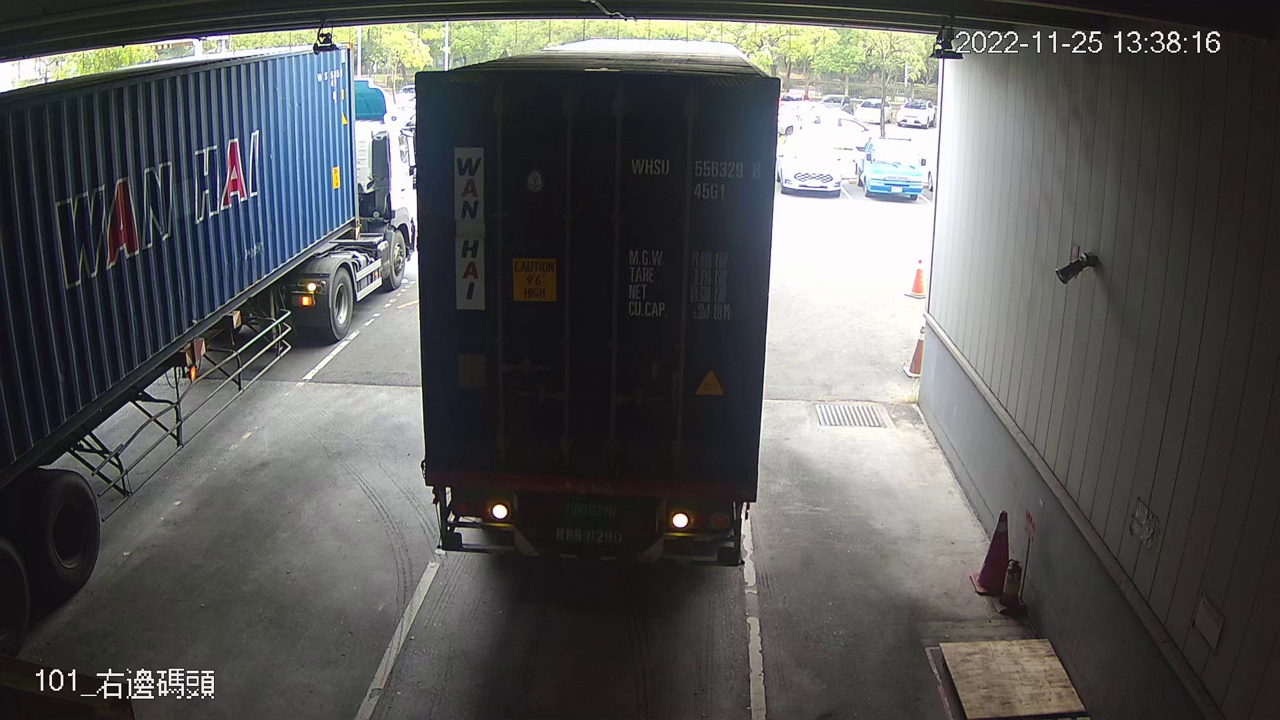container: (627, 147, 767, 204)
